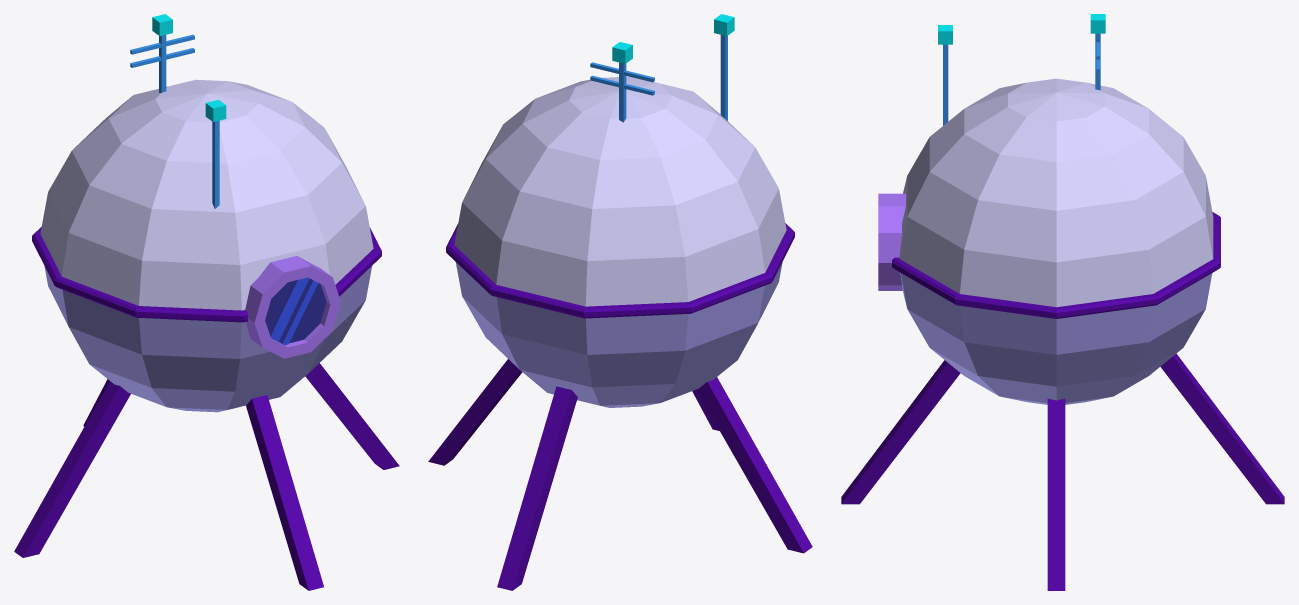
Rendered from Building_017_a.fbx.
The picture shows the model from 3 angles, left to right: view 1: azimuth 30°, elevation 25°; view 2: azimuth 150°, elevation 25°; view 3: azimuth 270°, elevation 25°; orthographic projection.
Parts seen in each view (by area): view 1: Building_017_a; view 2: Building_017_a; view 3: Building_017_a.
Part boxes in pixels (bbox=[...]): Building_017_a: bbox=[14, 14, 399, 590]; Building_017_a: bbox=[428, 14, 812, 590]; Building_017_a: bbox=[841, 14, 1284, 590].
Size of the model in its own units: 16.33 by 19.91 by 16.94.
